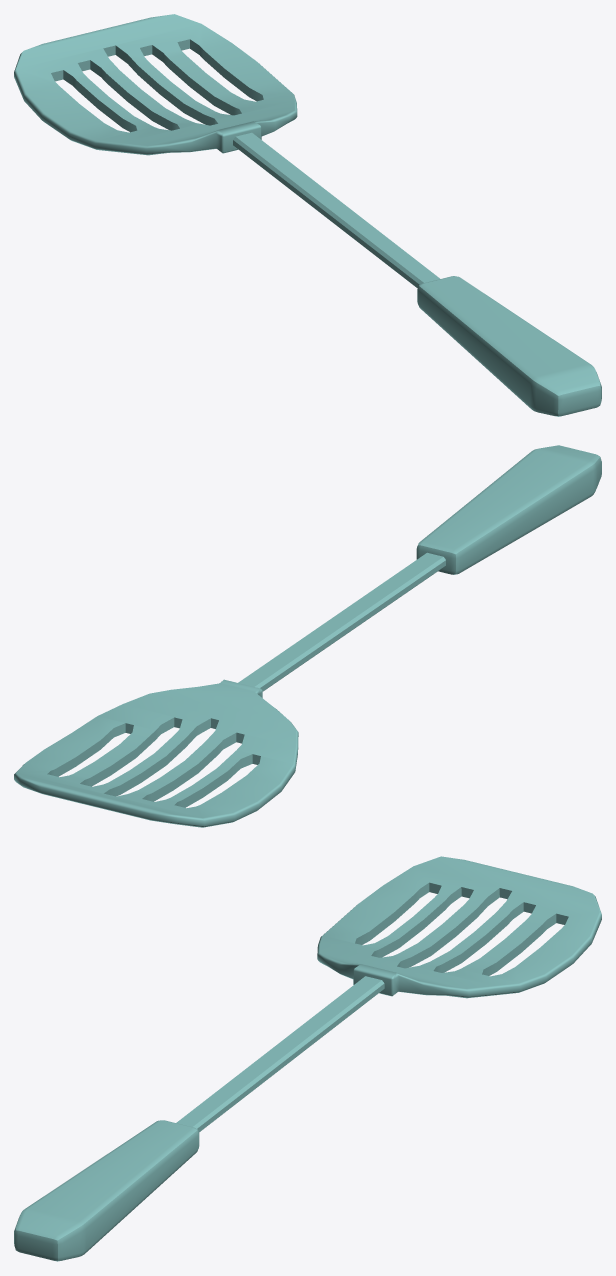
File: frying spatula.fbx
3 views of the same model, one above another, from view 1: azimuth 30°, elevation 25°; view 2: azimuth 150°, elevation 25°; view 3: azimuth 330°, elevation 25° (orthographic).
Visible parts, largest first — view 1: polySurface6220; view 2: polySurface6220; view 3: polySurface6220.
Boxes of the visible parts, x1=… form: polySurface6220: x1=14, y1=14, x2=601, y2=416; polySurface6220: x1=14, y1=445, x2=601, y2=827; polySurface6220: x1=14, y1=856, x2=601, y2=1261.
Bounding box in the file's own units: 0.1688 × 0.0312 × 0.6554.
